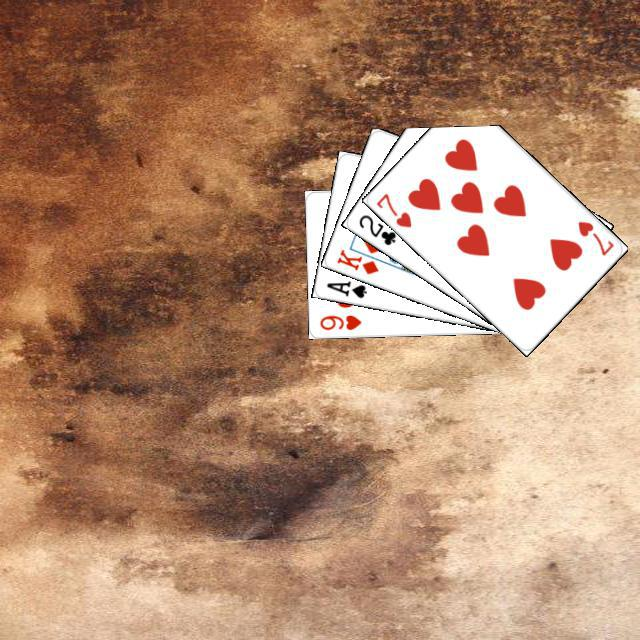2c: (353, 209, 398, 247)
7h: (573, 216, 616, 257), (371, 188, 413, 229)
9h: (315, 310, 363, 332)
As: (322, 276, 368, 300)
Kd: (332, 244, 380, 276)
